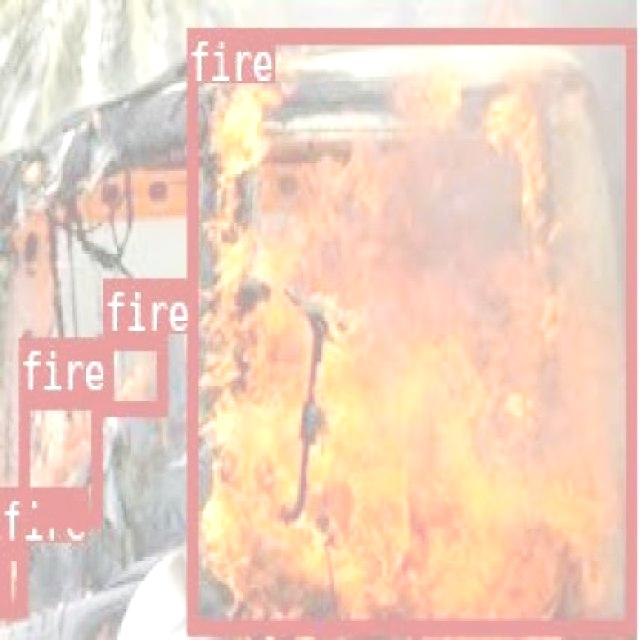fire: (186, 26, 634, 632), (18, 390, 100, 524), (102, 332, 166, 410), (0, 538, 23, 612)
